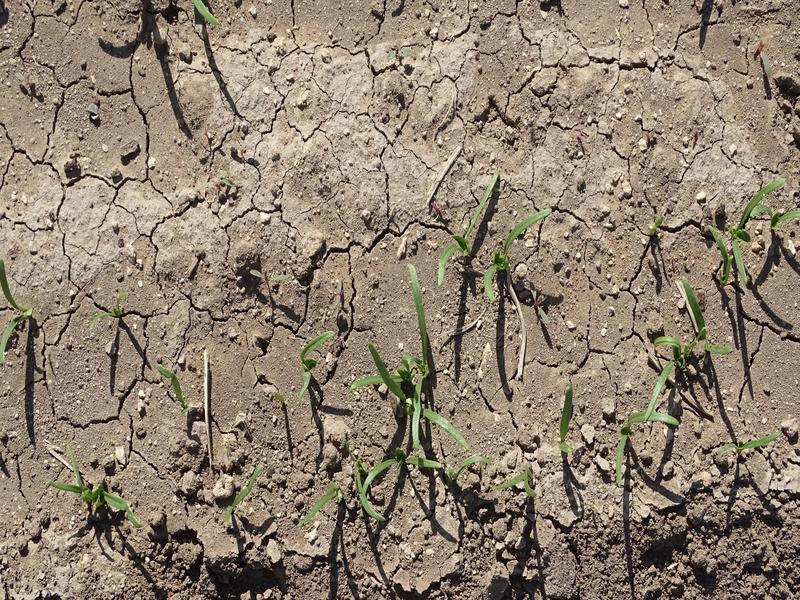Espinaca: (350, 270, 476, 448), (602, 304, 729, 479), (438, 186, 551, 304), (707, 181, 800, 279), (354, 447, 483, 515), (46, 454, 139, 519), (1, 257, 30, 366), (555, 385, 582, 457)
